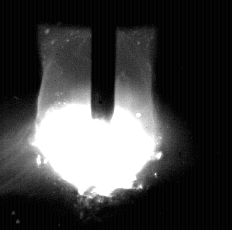arame: (91, 0, 117, 125)
poca: (31, 0, 158, 230)
